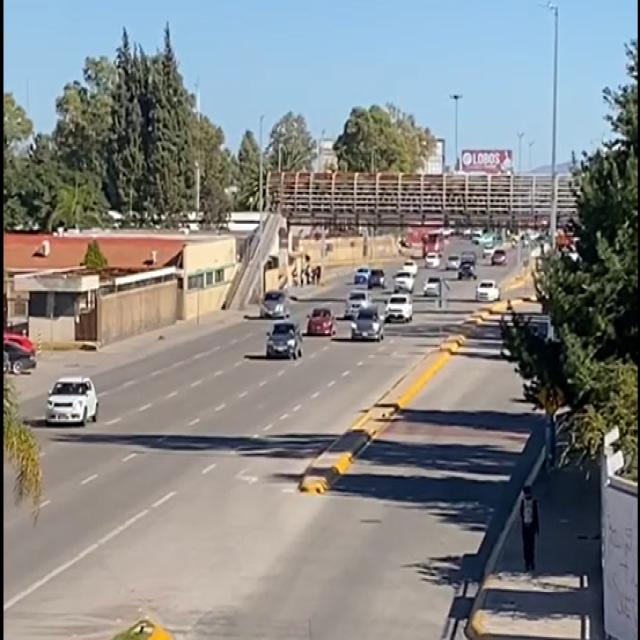Auto: (44, 378, 101, 427), (266, 322, 302, 362), (354, 306, 384, 339), (304, 306, 334, 339), (257, 292, 291, 320), (384, 295, 414, 326)
